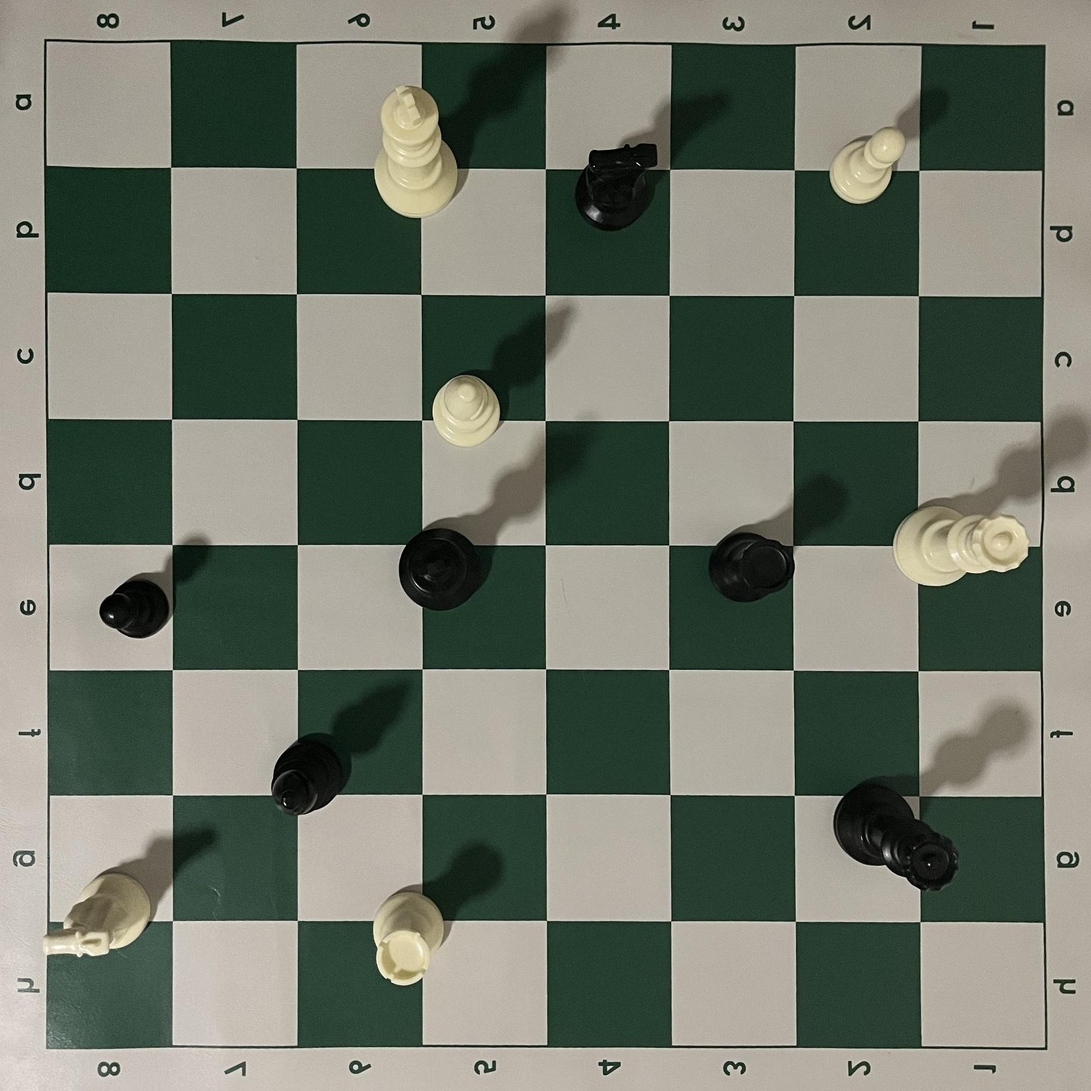black_bishop: (270, 732, 348, 816)
black_king: (398, 528, 486, 612)
black_knight: (574, 142, 658, 232)
black_pawn: (98, 572, 171, 639)
black_queen: (832, 780, 961, 893)
black_rook: (708, 532, 797, 603)
white_bishop: (432, 374, 502, 447)
white_king: (373, 84, 460, 218)
white_knight: (41, 868, 151, 959)
white_pawn: (828, 127, 907, 206)
white_queen: (892, 504, 1029, 587)
white_rook: (372, 884, 448, 987)
